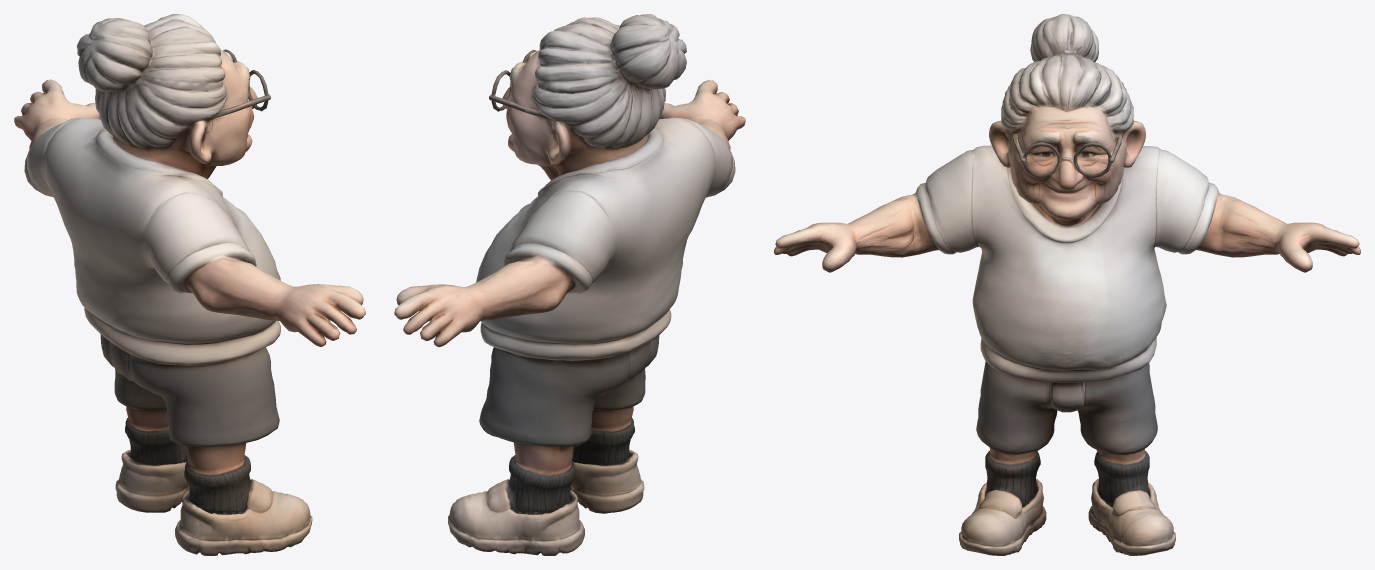
The picture shows the model from 3 angles, left to right: view 1: azimuth 30°, elevation 25°; view 2: azimuth 150°, elevation 25°; view 3: azimuth 270°, elevation 25°; orthographic projection. The views are drawn at different scales.
Parts seen in each view (by area): view 1: tripo_node_fdefaca2; view 2: tripo_node_fdefaca2; view 3: tripo_node_fdefaca2.
Boxes of the visible parts, x1=… form: tripo_node_fdefaca2: x1=14, y1=14, x2=365, y2=555; tripo_node_fdefaca2: x1=394, y1=14, x2=745, y2=555; tripo_node_fdefaca2: x1=774, y1=14, x2=1360, y2=555.
Size of the model in its own units: 0.3444 by 0.8982 by 1.
Materials: 1 (1 with a texture image).
